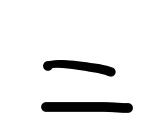eqv: (42, 60, 133, 113)
